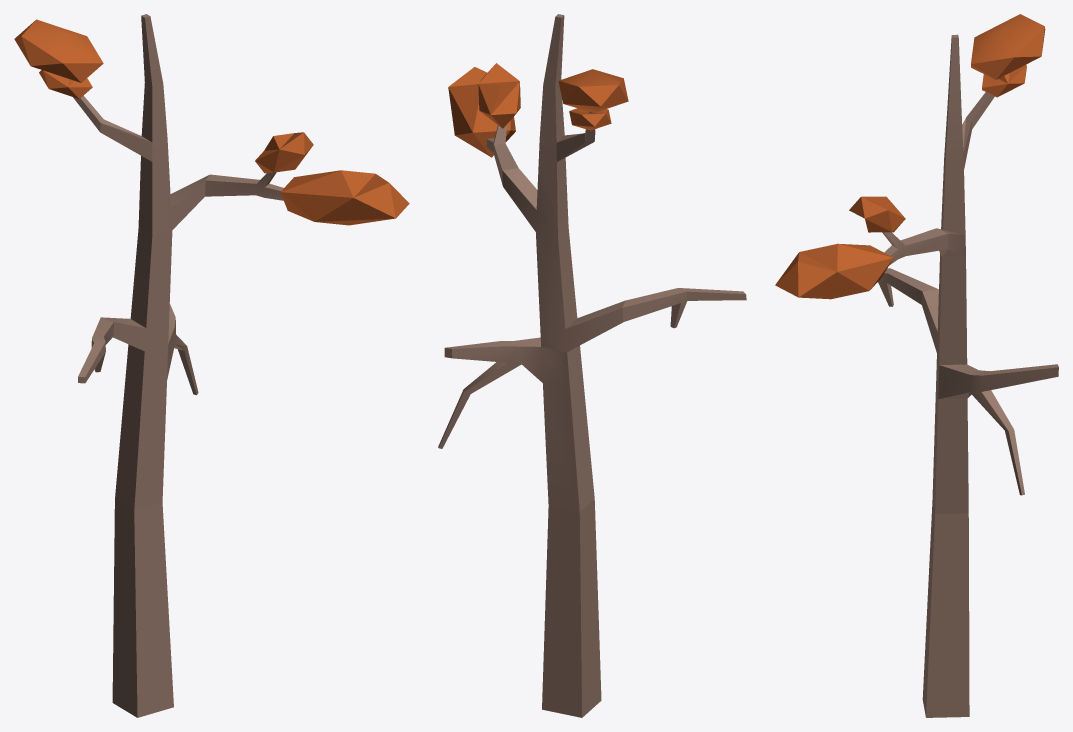
File: tree_1.fbx
The picture shows the model from 3 angles, left to right: view 1: azimuth 30°, elevation 25°; view 2: azimuth 150°, elevation 25°; view 3: azimuth 270°, elevation 25°; orthographic projection. The views are drawn at different scales.
Parts seen in each view (by area): view 1: TREE.001, TREE.006, TREE.002, TREE.005, TREE.004, TREE.003; view 2: TREE.006, TREE.001, TREE.005, TREE.002, TREE.004, TREE.003; view 3: TREE.001, TREE.005, TREE.006, TREE.002, TREE.004, TREE.003.
Part boxes in pixels (x1,y1,x2,y2): TREE.001: (112, 499, 173, 717); TREE.006: (101, 14, 209, 351); TREE.002: (205, 132, 409, 225); TREE.005: (115, 303, 198, 510); TREE.004: (14, 19, 152, 161); TREE.003: (78, 317, 113, 383); TREE.006: (502, 14, 625, 351); TREE.001: (542, 499, 601, 717); TREE.005: (438, 337, 594, 511); TREE.002: (448, 63, 520, 184); TREE.004: (556, 69, 628, 161); TREE.003: (622, 288, 746, 328); TREE.001: (922, 500, 969, 717); TREE.005: (932, 354, 1058, 513); TREE.006: (921, 34, 967, 364); TREE.002: (775, 196, 947, 299); TREE.004: (962, 14, 1045, 169); TREE.003: (878, 268, 938, 306).
Size of the model in its own units: 10.78 by 22.66 by 8.63.
